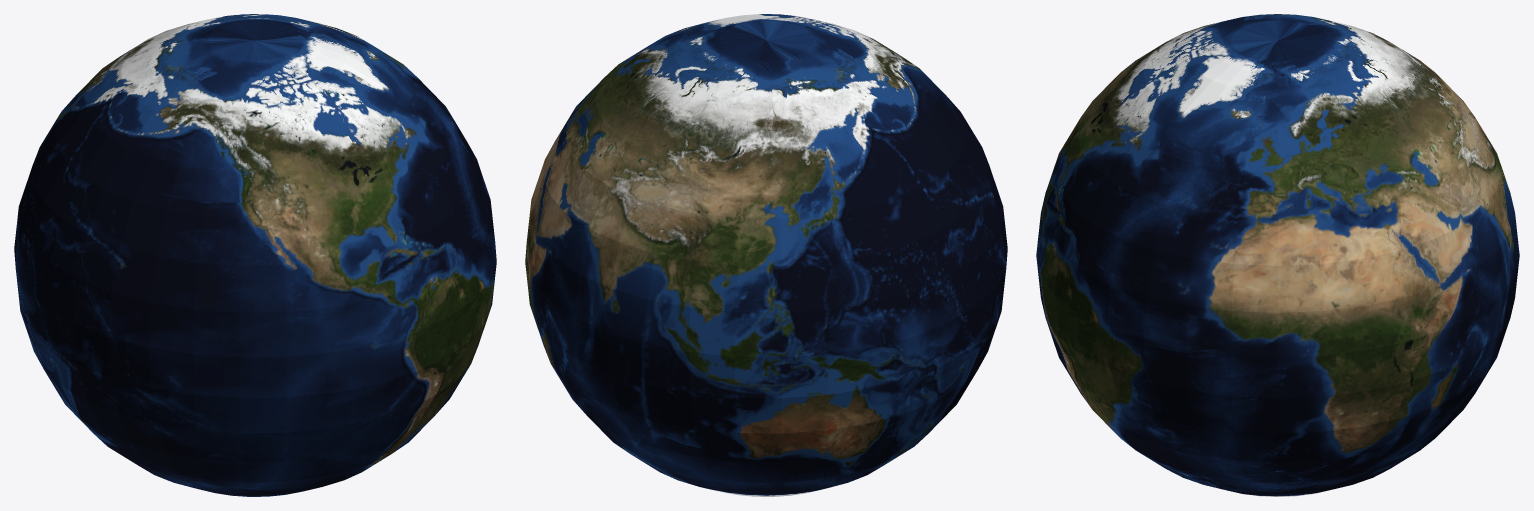
Rendered from globe_alone.glb.
The picture shows the model from 3 angles, left to right: view 1: azimuth 30°, elevation 25°; view 2: azimuth 150°, elevation 25°; view 3: azimuth 270°, elevation 25°; orthographic projection.
Visible parts, largest first — view 1: Sphere; view 2: Sphere; view 3: Sphere.
Part boxes in pixels (<box>): Sphere: <box>14,14,496,496</box>; Sphere: <box>525,14,1007,496</box>; Sphere: <box>1036,14,1519,496</box>.
Bounding box in the file's own units: 2 × 1.96 × 2.
1 material, 1 textured.
